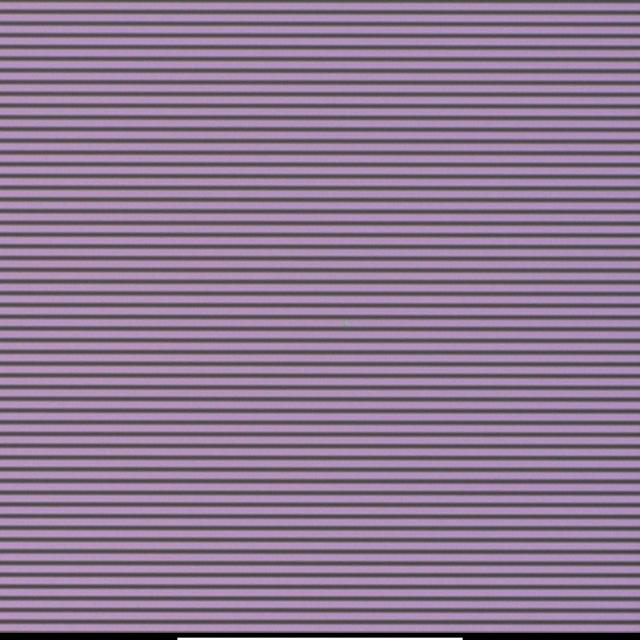nonvisual: (344, 318, 350, 328)
